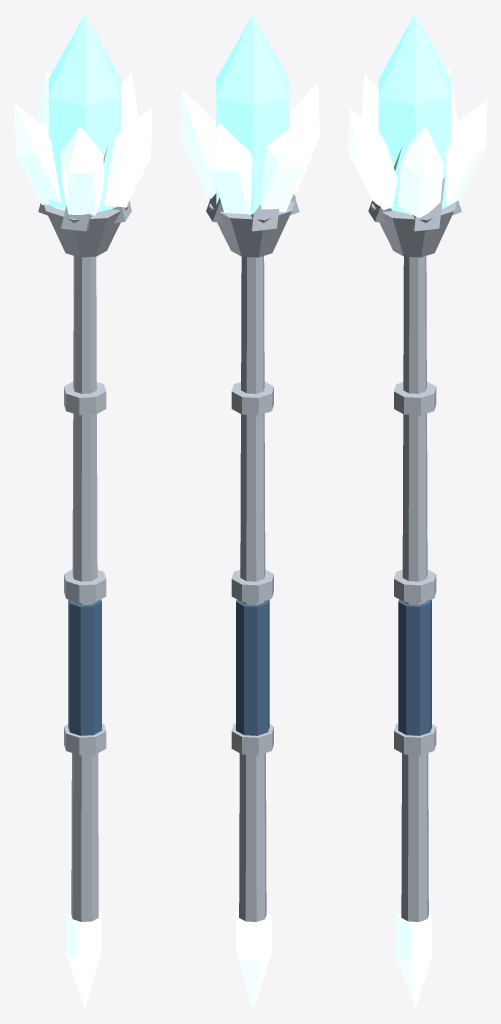
Rendered from S4_Ice_Scepter.fbx.
3 views of the same model, side by side, from view 1: azimuth 30°, elevation 25°; view 2: azimuth 150°, elevation 25°; view 3: azimuth 330°, elevation 25° (orthographic).
Visible parts, largest first — view 1: S4_Ice_Scepter; view 2: S4_Ice_Scepter; view 3: S4_Ice_Scepter.
Part boxes in pixels (bbox=[...]): S4_Ice_Scepter: bbox=[14, 14, 152, 1009]; S4_Ice_Scepter: bbox=[181, 14, 319, 1009]; S4_Ice_Scepter: bbox=[348, 14, 486, 1009].
Bounding box in the file's own units: 0.2144 × 1.7 × 0.2116.
